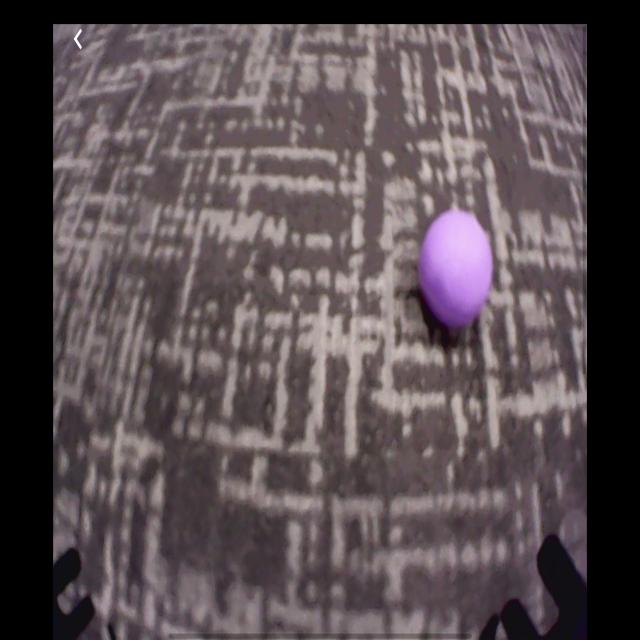ball: (420, 211, 494, 330)
